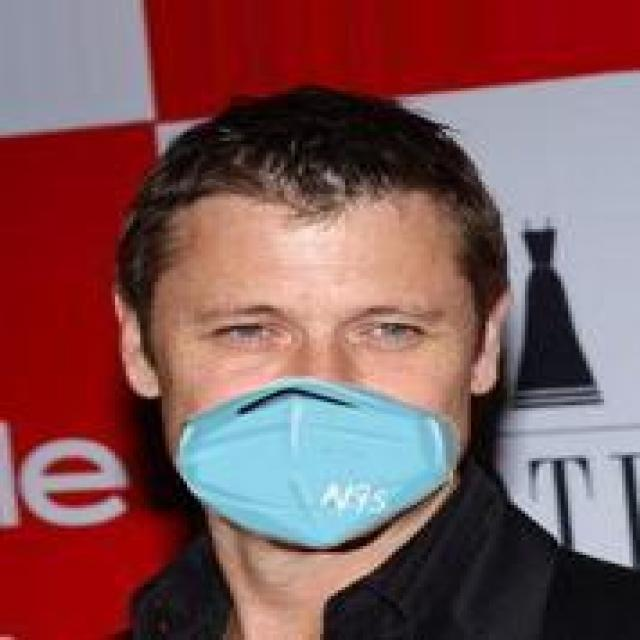mask: (108, 100, 521, 552)
